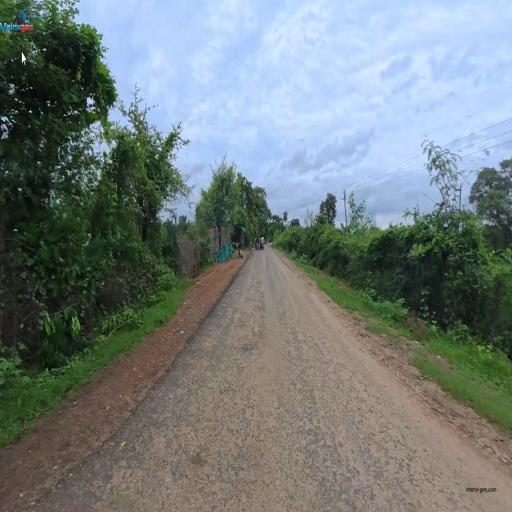ravelling: (195, 373, 376, 474)
